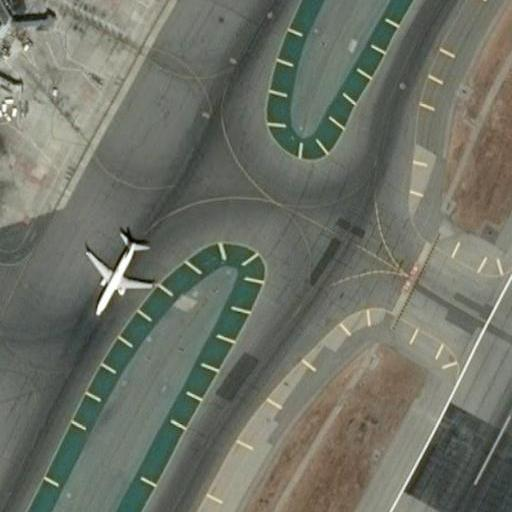Aircraft: (81, 228, 155, 314)
